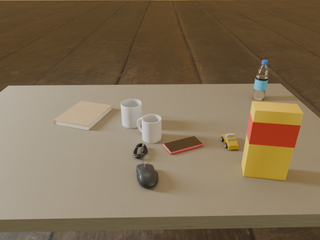book: (54, 101, 112, 130)
bottle: (253, 60, 269, 100)
box: (242, 101, 303, 180)
cup: (137, 114, 161, 143), (121, 99, 143, 128)
mouse: (136, 164, 158, 188)
phone: (163, 136, 203, 154)
toy_car: (221, 133, 239, 150)
